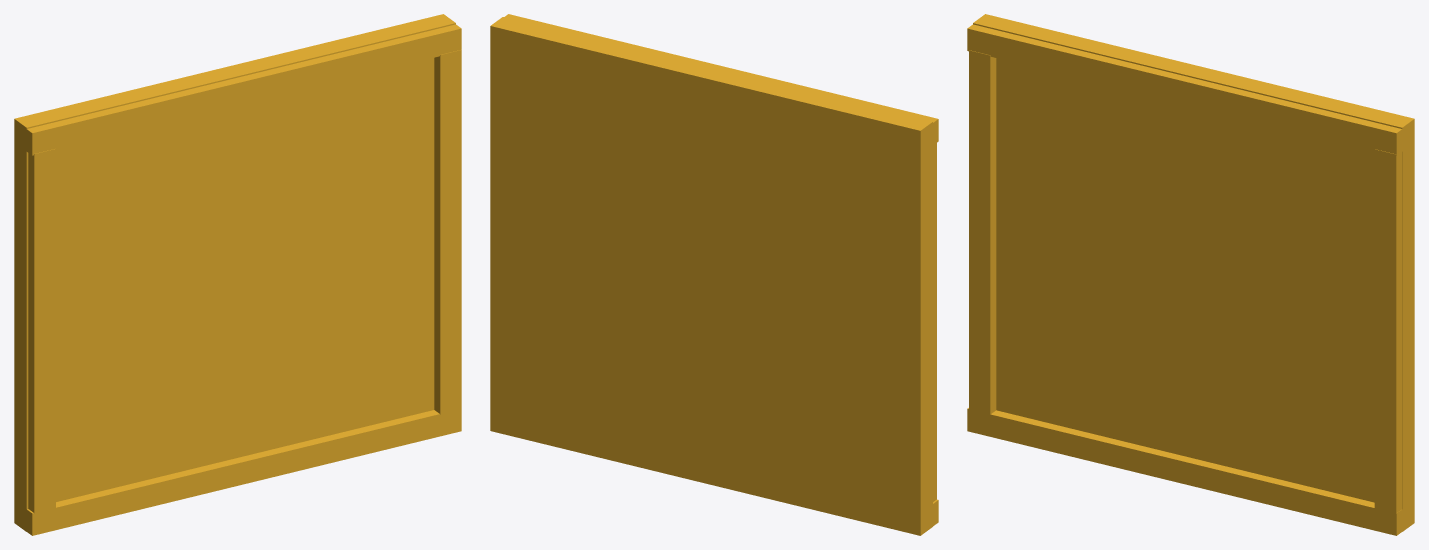
The model's file is bread_tray.obj.
The picture shows the model from 3 angles, left to right: view 1: azimuth 30°, elevation 25°; view 2: azimuth 150°, elevation 25°; view 3: azimuth 330°, elevation 25°; orthographic projection.
Parts seen in each view (by area): view 1: tray_bottom, tray_left, tray_right, tray_forward, tray_backward; view 2: tray_bottom, tray_left, tray_forward; view 3: tray_bottom, tray_left, tray_right, tray_backward, tray_forward.
Part boxes in pixels (<box>): tray_bottom: <box>14,14,455,531</box>; tray_left: <box>26,24,461,155</box>; tray_right: <box>26,409,461,535</box>; tray_forward: <box>28,149,55,513</box>; tray_backward: <box>434,49,461,414</box>; tray_bottom: <box>490,17,932,535</box>; tray_left: <box>504,14,938,145</box>; tray_forward: <box>933,143,936,501</box>; tray_bottom: <box>973,14,1414,531</box>; tray_left: <box>967,24,1402,155</box>; tray_right: <box>967,408,1402,535</box>; tray_backward: <box>1374,149,1401,513</box>; tray_forward: <box>969,50,996,414</box>.
Size of the model in its own units: 0.2 by 0.18 by 0.0148.
